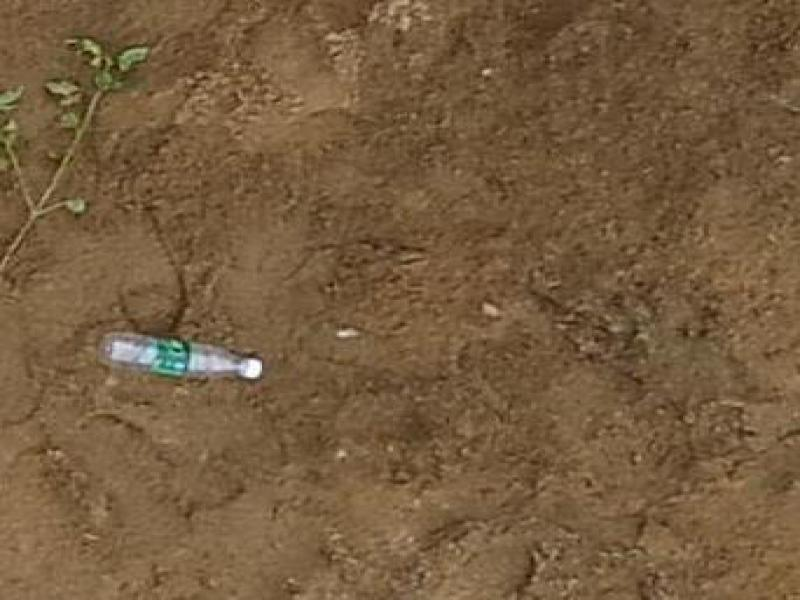bottle: (88, 324, 273, 393)
